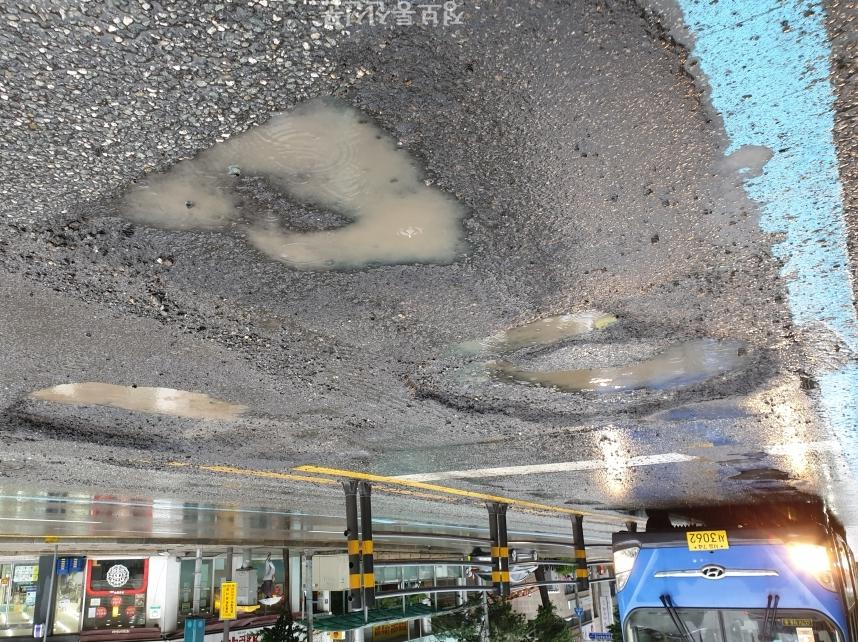pothole: (124, 93, 457, 306), (406, 307, 806, 445), (0, 373, 239, 478)
